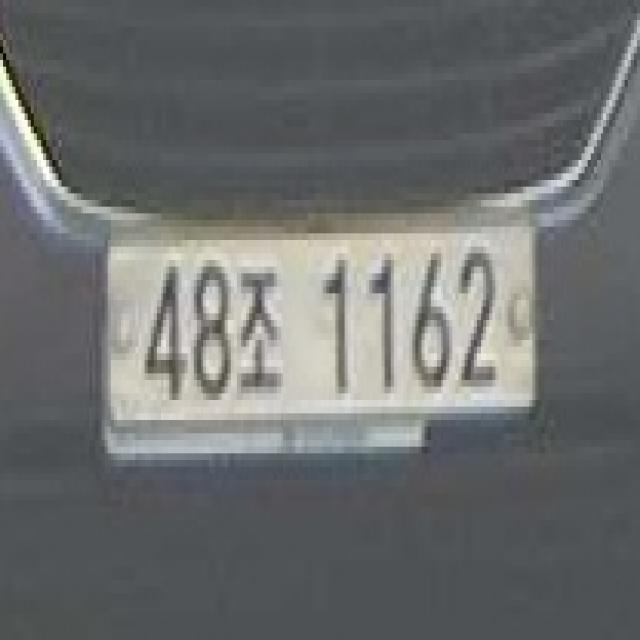1: (364, 245, 398, 410), (322, 251, 354, 408)
2: (454, 247, 496, 401)
4: (138, 254, 192, 423)
6: (408, 253, 451, 405)
8: (192, 251, 234, 427)
jo: (235, 254, 290, 406)
license_plate: (93, 199, 554, 440)
